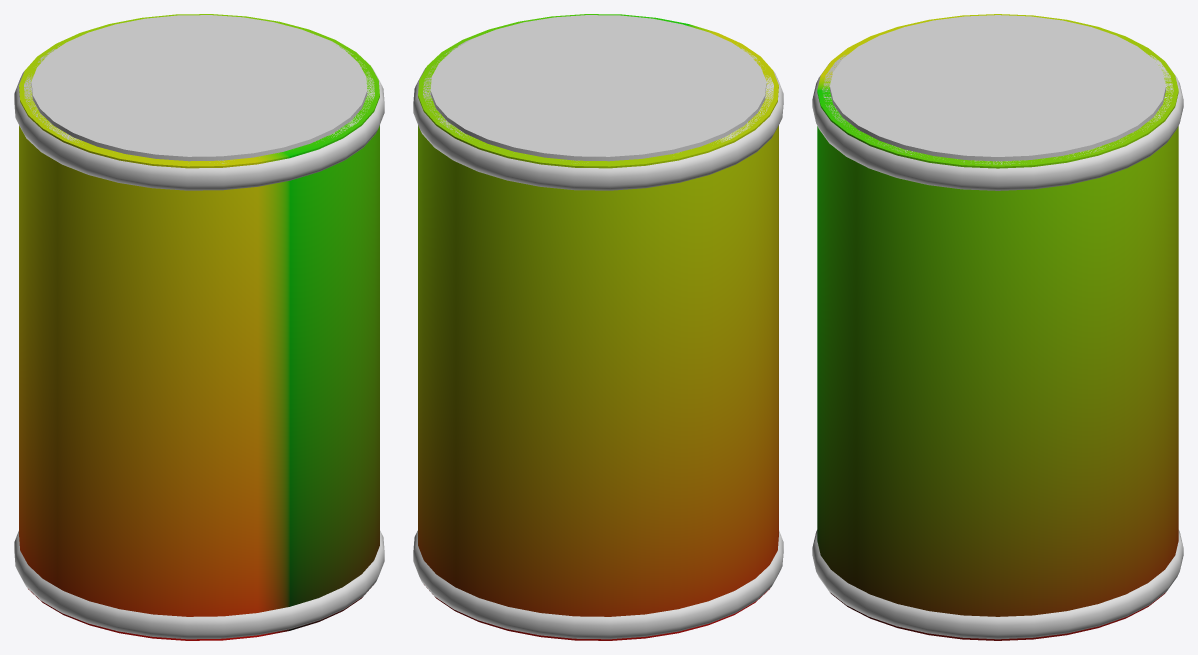
File: can_beans.glb
3 views of the same model, side by side, from view 1: azimuth 30°, elevation 25°; view 2: azimuth 150°, elevation 25°; view 3: azimuth 270°, elevation 25° (orthographic).
Parts seen in each view (by area): view 1: can_beans; view 2: can_beans; view 3: can_beans.
Part boxes in pixels (x1,y1,x2,y2): can_beans: (14,14,384,640); can_beans: (413,14,783,640); can_beans: (812,14,1183,640).
Bounding box in the file's own units: 0.078 × 0.111 × 0.078.
